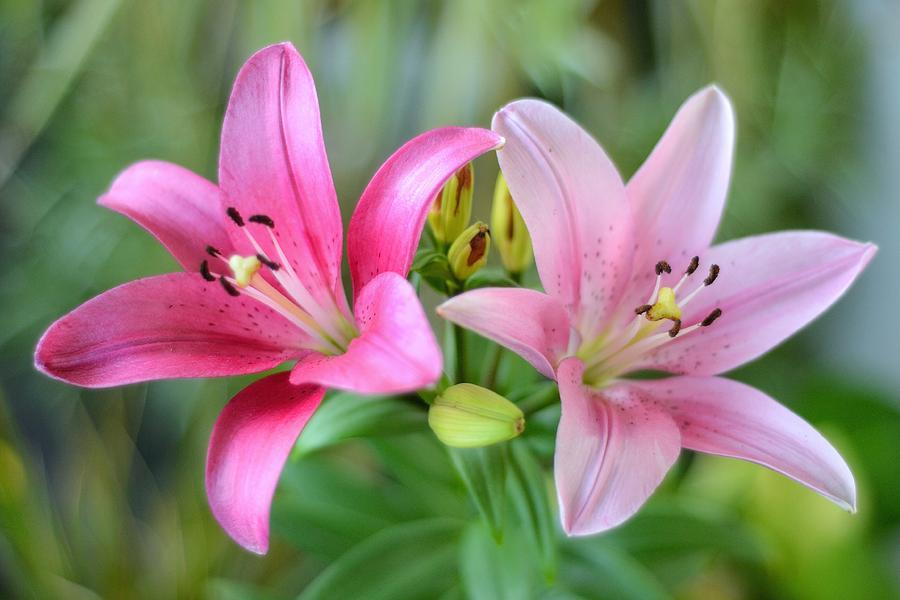lily: (435, 57, 881, 534), (36, 40, 436, 551)
